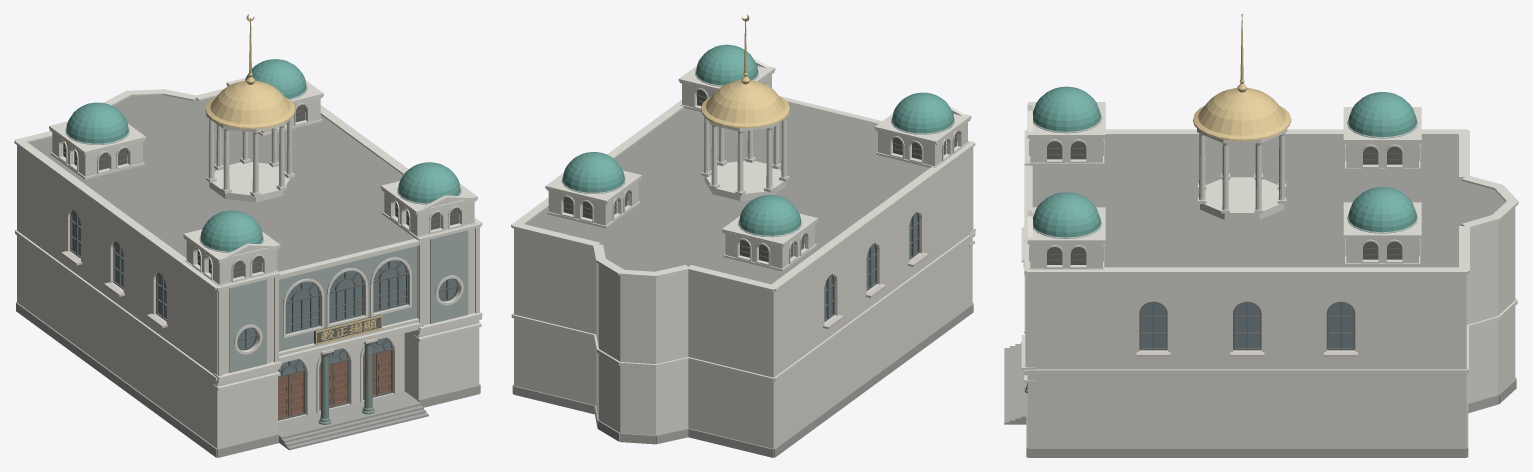
The model's file is huangpu-xiaotaoyuan-mosque-prayer-hall-lod.glb.
3 views of the same model, side by side, from view 1: azimuth 30°, elevation 25°; view 2: azimuth 150°, elevation 25°; view 3: azimuth 270°, elevation 25° (orthographic). The views are drawn at different scales.
Parts seen in each view (by area): view 1: 小桃园清真寺主礼拜殿（院内东立面及五处屋顶构件）; view 2: 小桃园清真寺主礼拜殿（院内东立面及五处屋顶构件）; view 3: 小桃园清真寺主礼拜殿（院内东立面及五处屋顶构件）.
Part boxes in pixels (left/top/right/bottom): 小桃园清真寺主礼拜殿（院内东立面及五处屋顶构件）: left=14, top=14, right=482, bottom=457; 小桃园清真寺主礼拜殿（院内东立面及五处屋顶构件）: left=511, top=14, right=975, bottom=457; 小桃园清真寺主礼拜殿（院内东立面及五处屋顶构件）: left=1004, top=14, right=1518, bottom=457.
Bounding box in the file's own units: 19.6 × 23.32 × 29.18.
